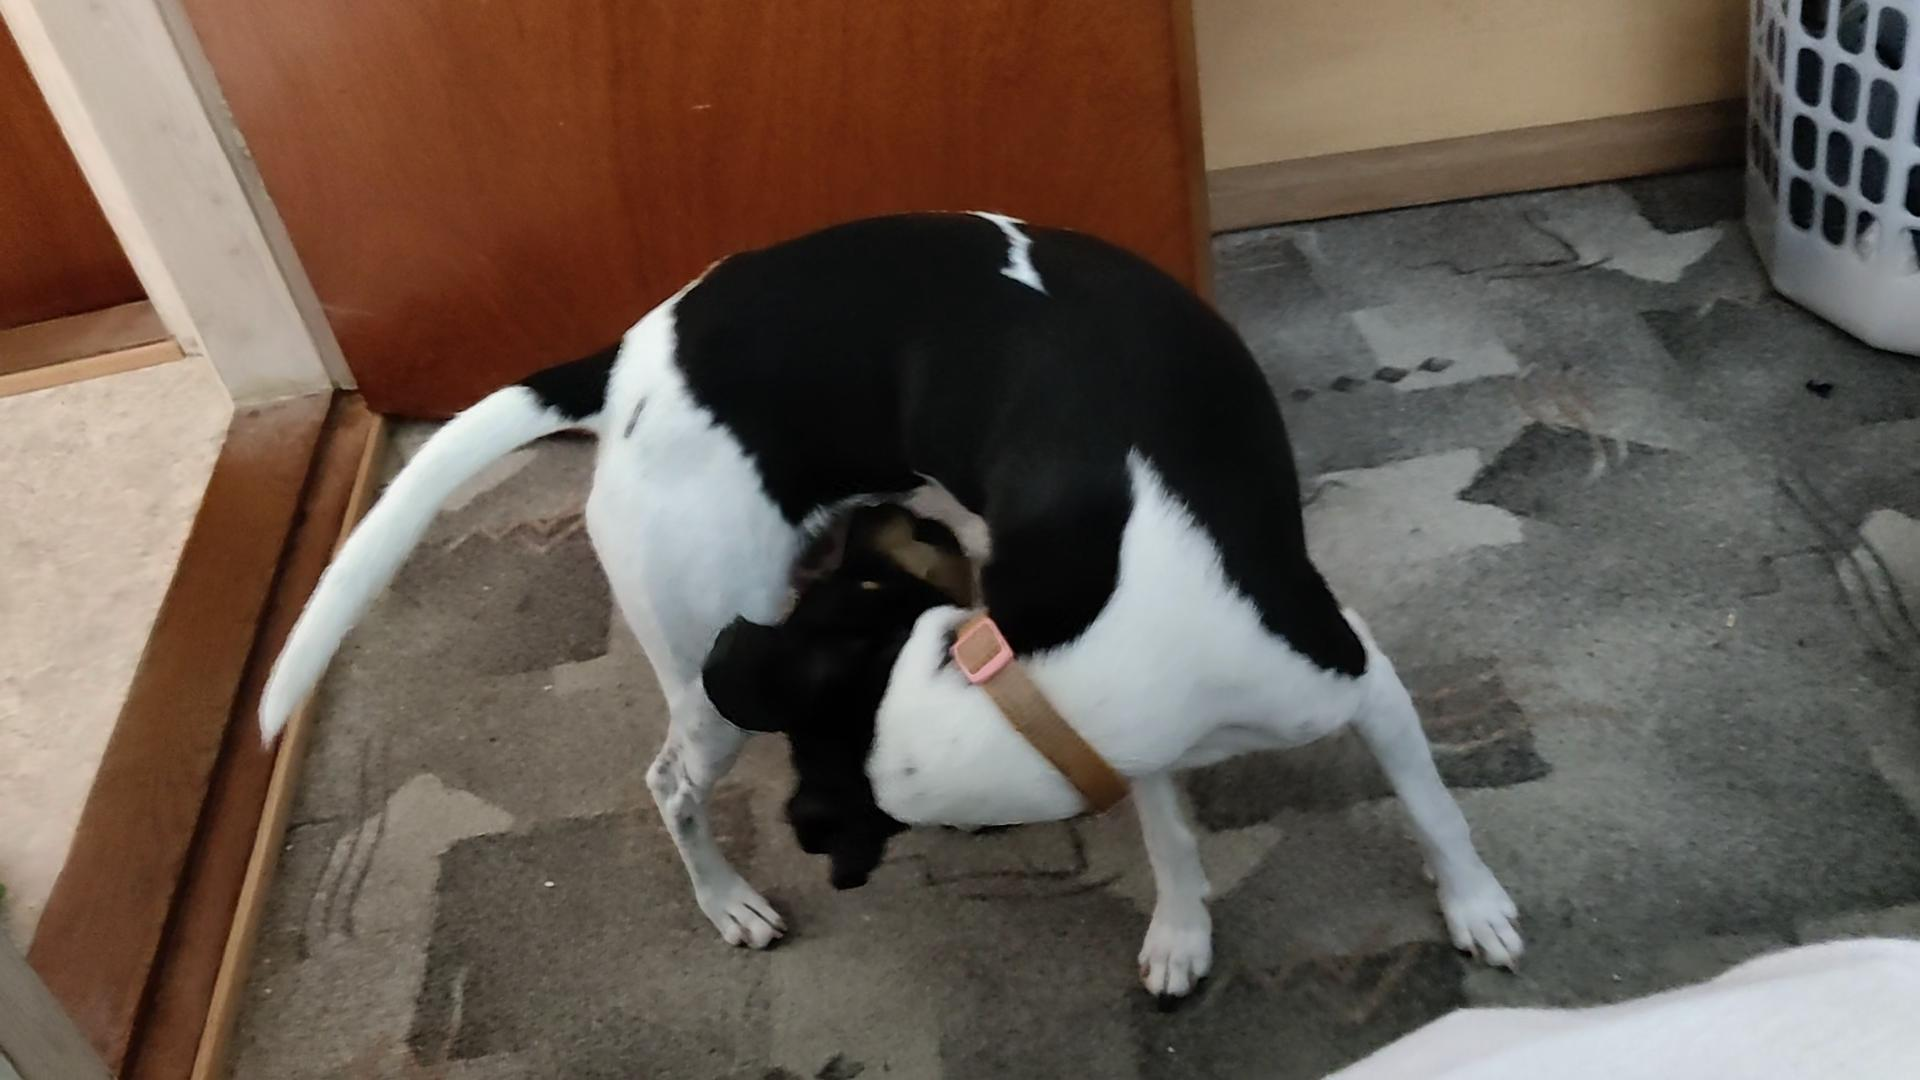Dog: (229, 161, 1544, 1029)
